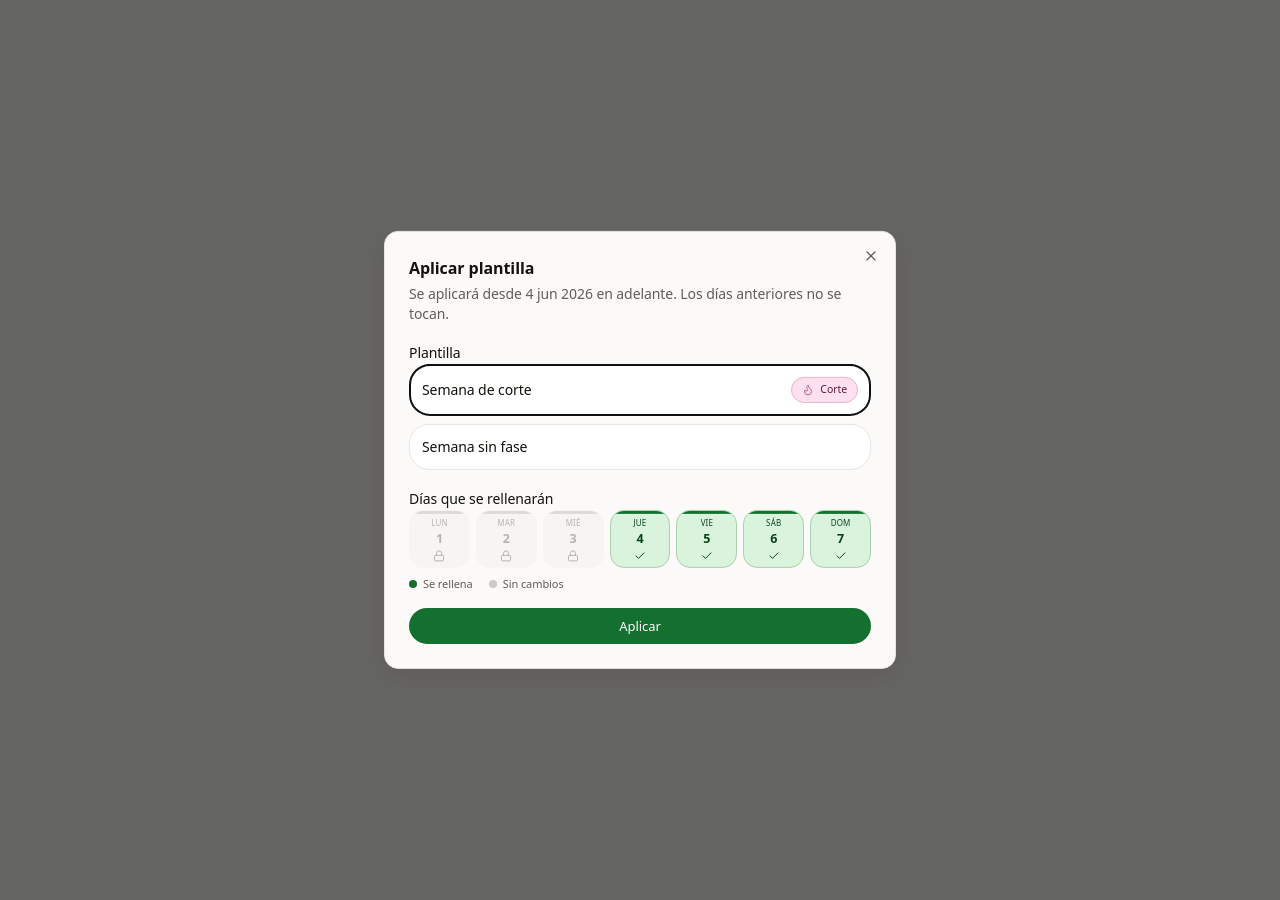
ApplyTemplateDialog › refuses to apply with no template picked
What coordinates should you click on to do the following:
click the button "Aplicar"
I would click on:
 (640, 626)
Its box is x1=409 y1=608 x2=871 y2=644.
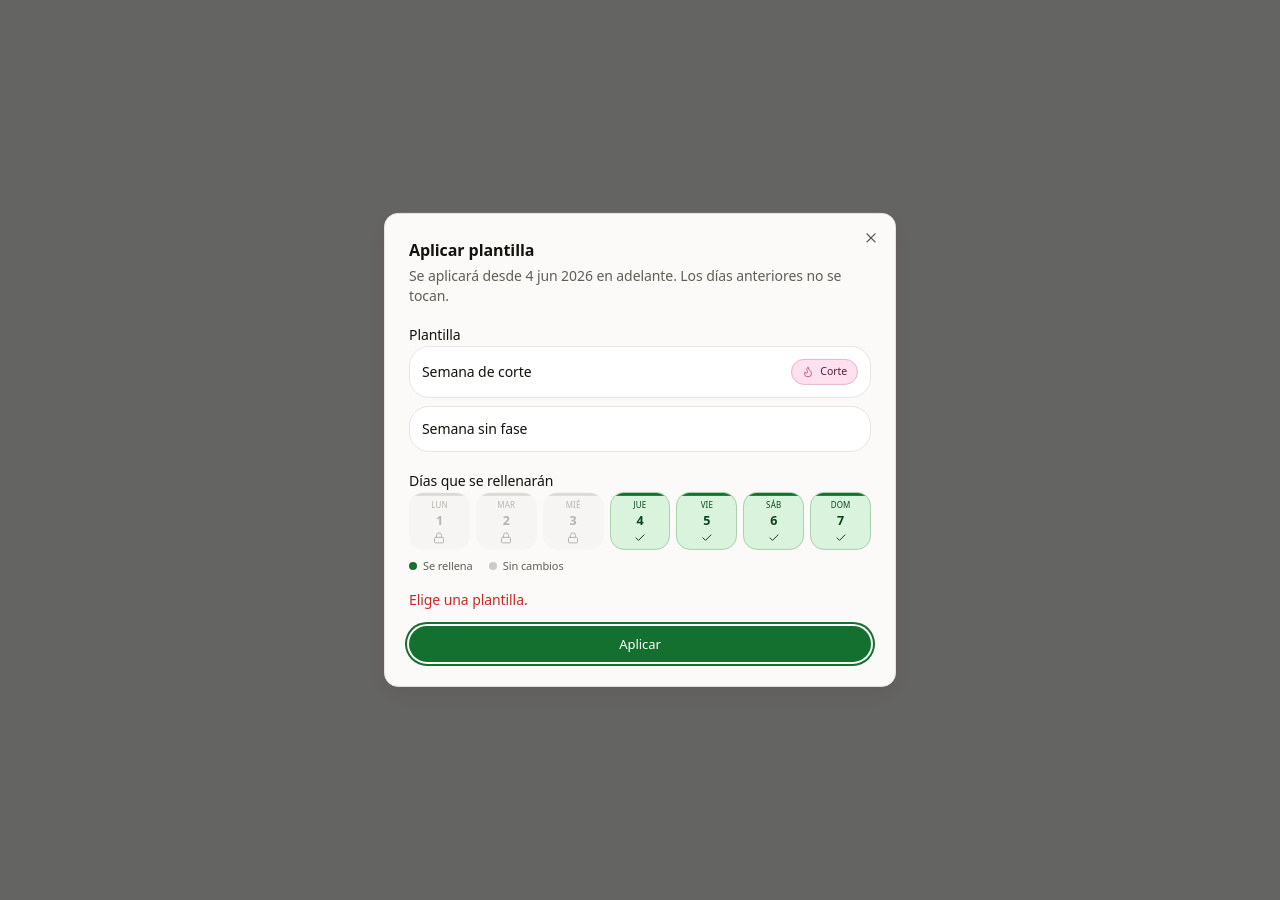
Now the text "Elige una plantilla." is shown, box x1=409 y1=590 x2=528 y2=609
